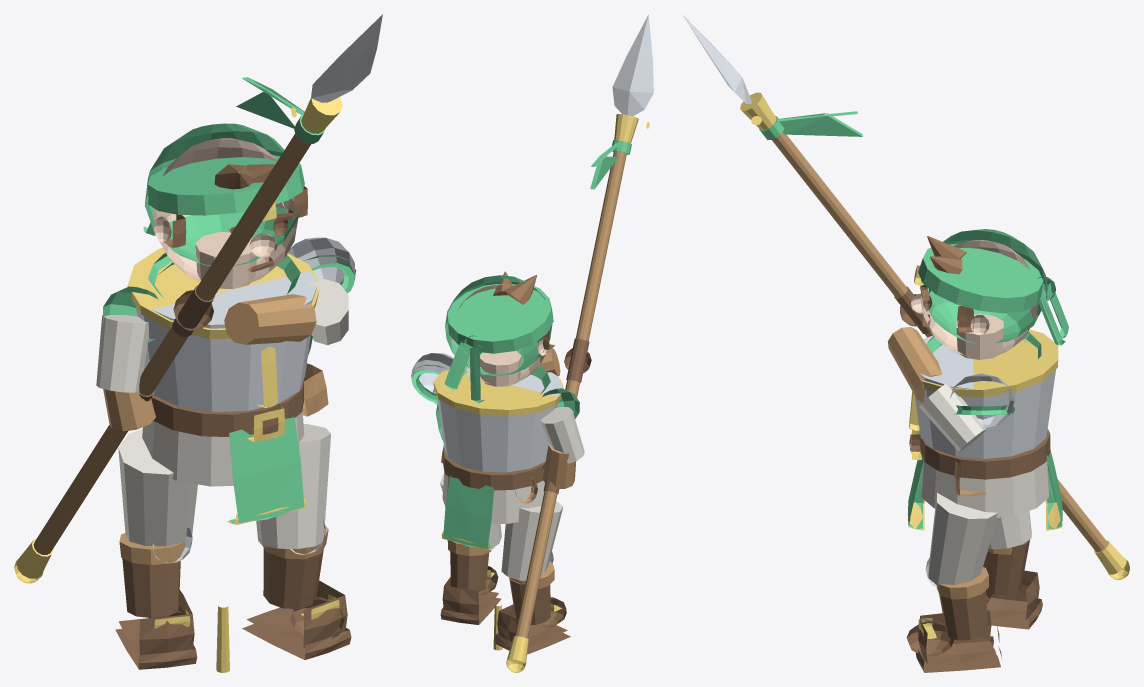
File: lancero.glb
3 views of the same model, side by side, from view 1: azimuth 30°, elevation 25°; view 2: azimuth 150°, elevation 25°; view 3: azimuth 270°, elevation 25° (orthographic). The views are drawn at different scales.
Visible parts, largest first — view 1: Lancero; view 2: Lancero; view 3: Lancero.
Part boxes in pixels (x1=…): Lancero: x1=14, y1=14, x2=382, y2=672; Lancero: x1=411, y1=14, x2=653, y2=672; Lancero: x1=682, y1=14, x2=1129, y2=672.
Size of the model in its own units: 0.6466 by 1.99 by 1.27.
